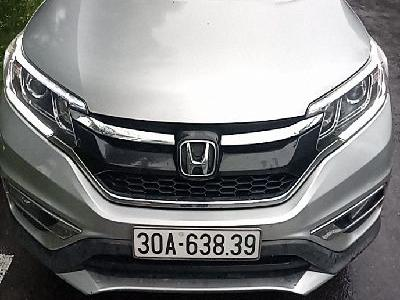car: (131, 225, 262, 265)
